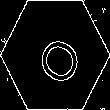O_NW: (26, 24, 84, 86)
